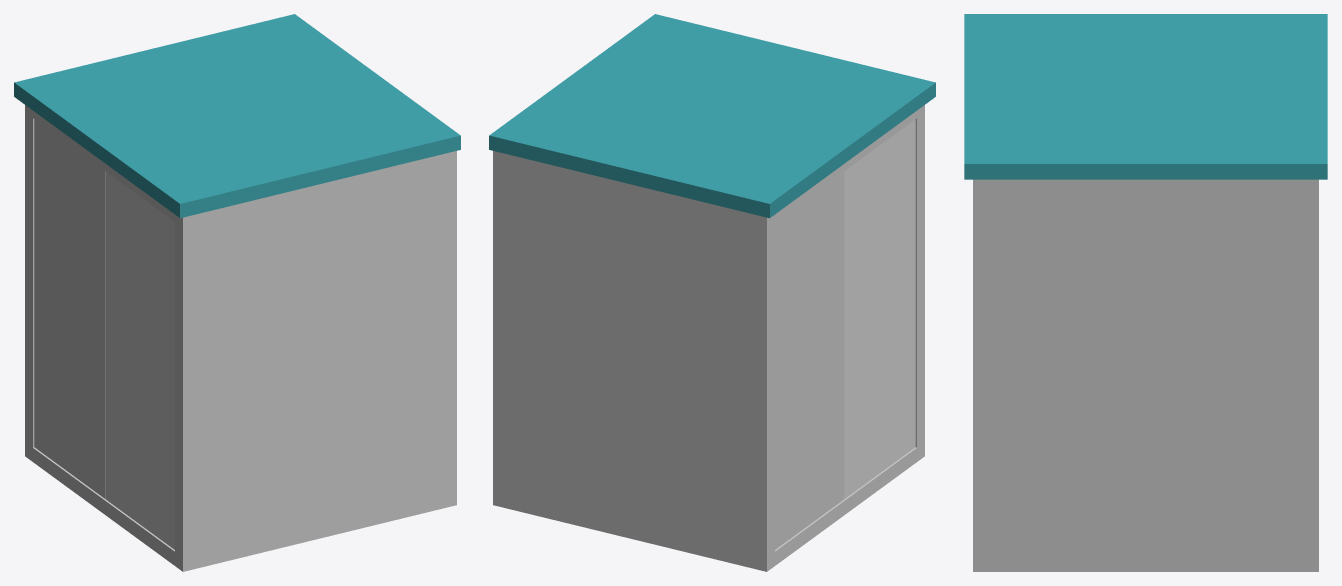
File: Drawer.fbx
3 renders of one model, left to right at view 1: azimuth 30°, elevation 25°; view 2: azimuth 150°, elevation 25°; view 3: azimuth 270°, elevation 25°, orthographic. The views are drawn at different scales.
Visible parts, largest first — view 1: Drawer, Door; view 2: Drawer, Door; view 3: Drawer.
Boxes of the visible parts, x1,y1,x2,y2 form: Drawer: (14,14,460,571); Door: (105,172,174,549); Drawer: (489,14,935,571); Door: (844,119,915,498); Drawer: (964,14,1327,571).
Bounding box in the file's own units: 410 × 520 × 420.
